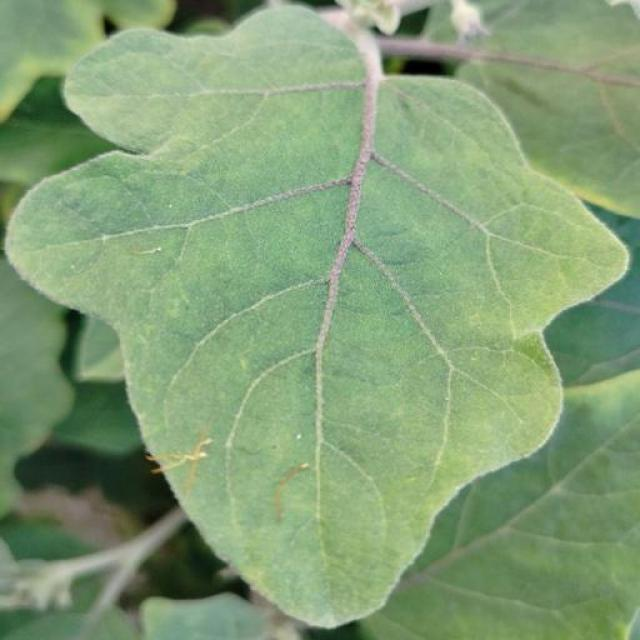leaf_spot: (383, 377, 576, 562), (345, 552, 639, 640), (500, 232, 633, 369), (400, 405, 566, 498), (509, 202, 640, 278), (124, 55, 243, 128), (71, 319, 163, 390), (0, 43, 66, 131), (80, 228, 192, 276), (544, 363, 640, 415), (68, 0, 188, 40), (533, 172, 627, 222), (53, 7, 134, 65), (155, 425, 222, 491), (549, 596, 640, 639), (144, 130, 208, 180), (128, 594, 178, 632), (72, 84, 120, 123), (134, 398, 174, 444), (108, 508, 156, 541), (155, 276, 187, 325), (4, 224, 30, 281), (237, 557, 269, 588), (380, 50, 413, 76), (238, 344, 256, 379), (217, 519, 242, 542), (274, 430, 288, 464), (290, 426, 306, 453), (208, 14, 226, 37)
